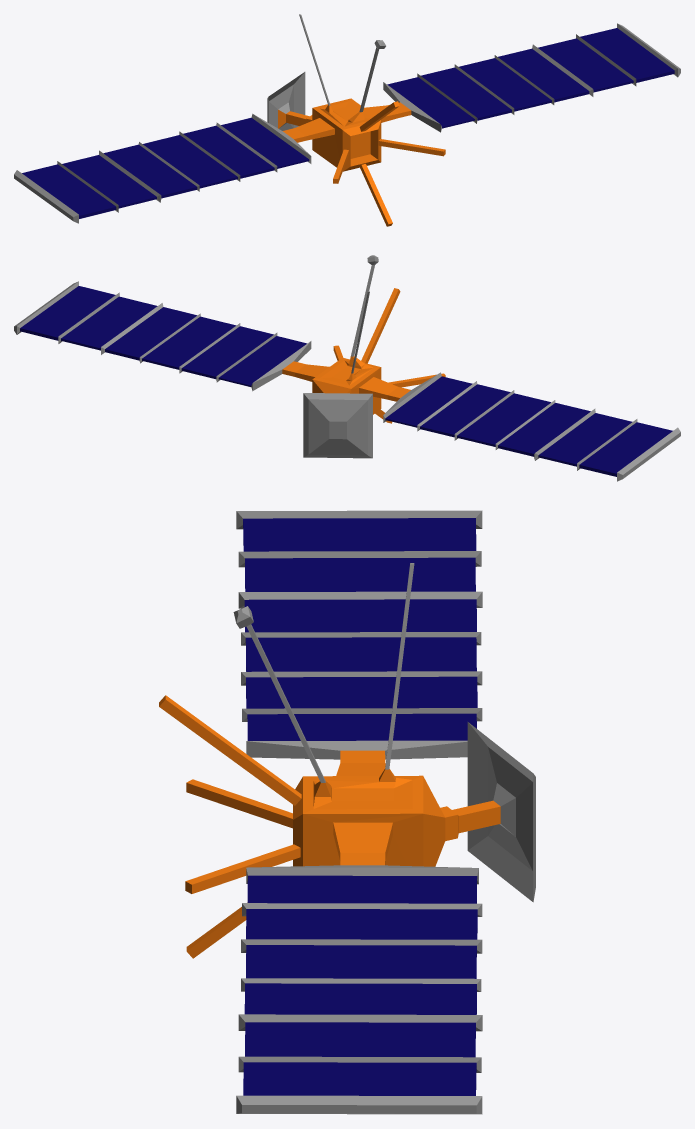
Rendered from Satellite.FBX.
3 views of the same model, one above another, from view 1: azimuth 30°, elevation 25°; view 2: azimuth 150°, elevation 25°; view 3: azimuth 270°, elevation 25° (orthographic). The views are drawn at different scales.
Visible parts, largest first — view 1: Box002; view 2: Box002; view 3: Box002.
Boxes of the visible parts, x1,y1,x2,y2 form: Box002: [14, 14, 680, 226]; Box002: [14, 255, 680, 481]; Box002: [159, 510, 535, 1114].
Bounding box in the file's own units: 403 × 114 × 108.
